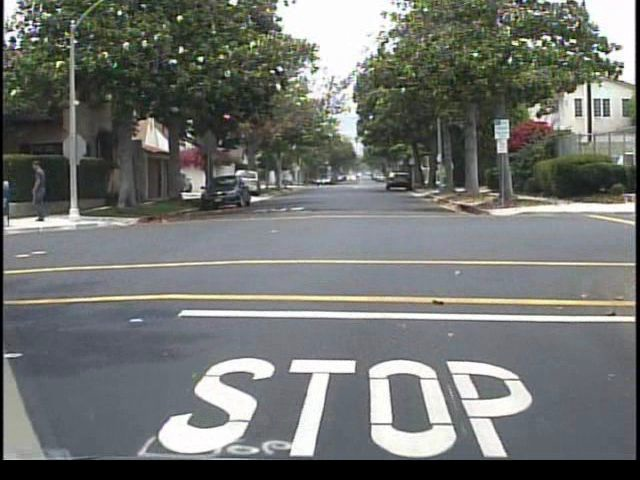person: (24, 156, 57, 227)
